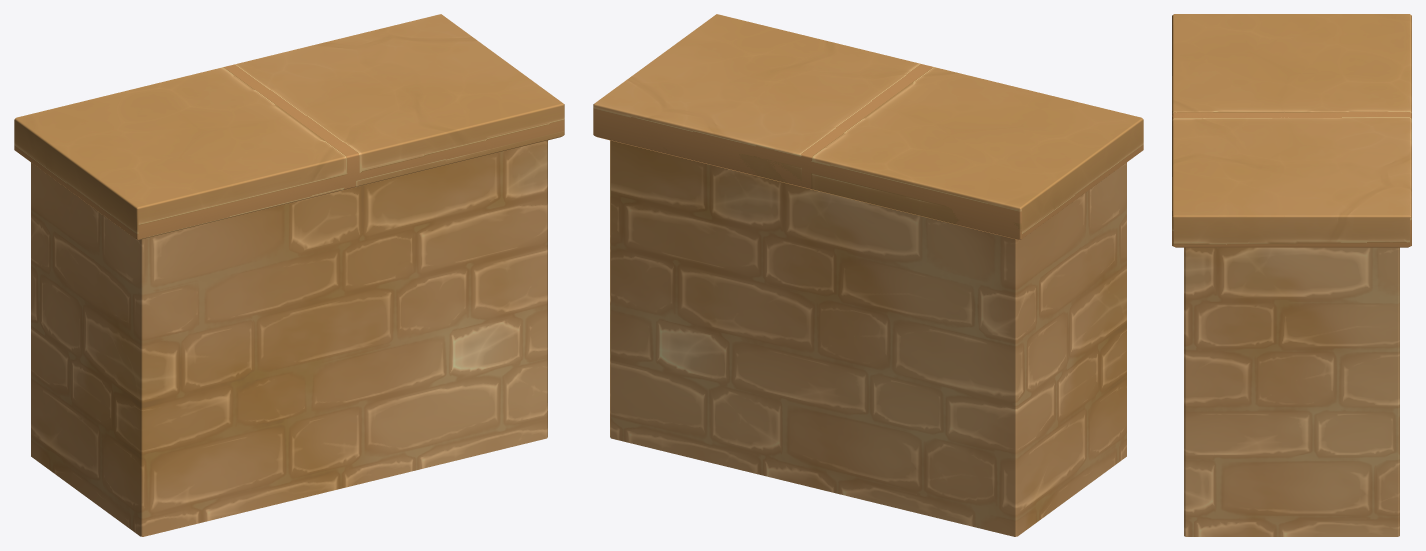
The model's file is SM_Env_Stand_A.fbx.
The picture shows the model from 3 angles, left to right: view 1: azimuth 30°, elevation 25°; view 2: azimuth 150°, elevation 25°; view 3: azimuth 270°, elevation 25°; orthographic projection. The views are drawn at different scales.
Parts seen in each view (by area): view 1: Stand_A; view 2: Stand_A; view 3: Stand_A.
Part boxes in pixels (<box>): Stand_A: <box>14,14,564,536</box>; Stand_A: <box>593,14,1143,536</box>; Stand_A: <box>1172,14,1411,536</box>.
Bounding box in the file's own units: 200 × 150 × 100.
Materials: 2 (2 with a texture image).
